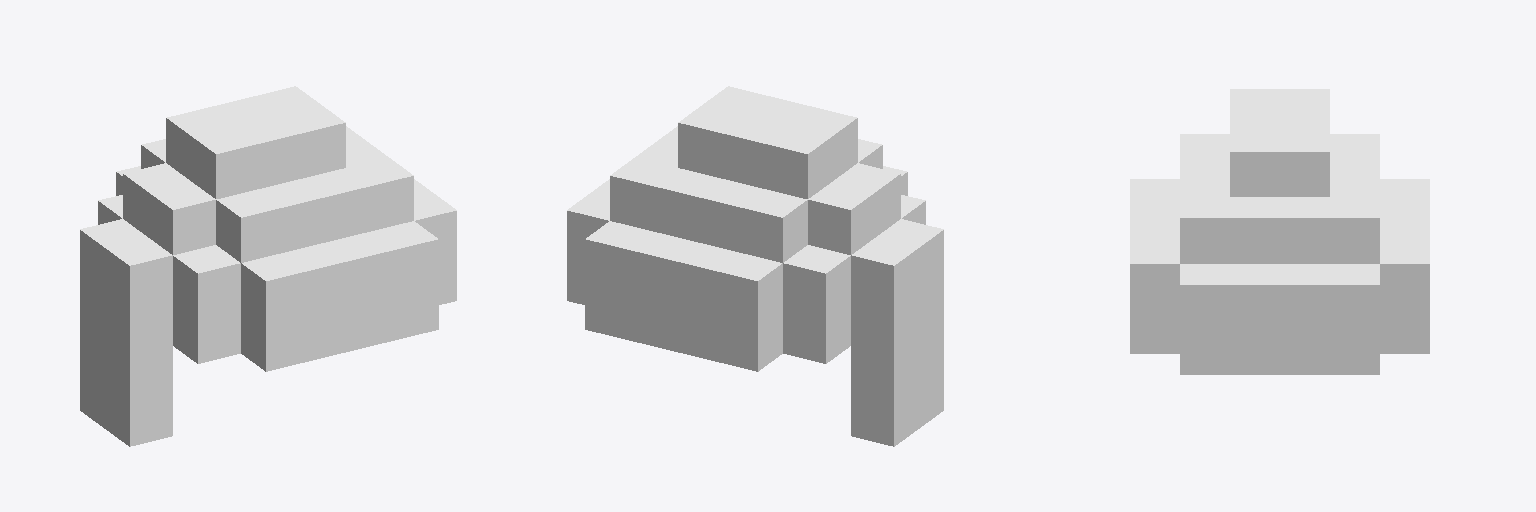
The model's file is char-221-helm_lgt_2c_ja_color.obj.
The picture shows the model from 3 angles: view 1: azimuth 30°, elevation 25°; view 2: azimuth 150°, elevation 25°; view 3: azimuth 270°, elevation 25°; orthographic projection.
Visible parts, largest first — view 1: helm_lgt_2c_ja_color; view 2: helm_lgt_2c_ja_color; view 3: helm_lgt_2c_ja_color.
Boxes of the visible parts, <box> form: helm_lgt_2c_ja_color: <box>80,86,456,446</box>; helm_lgt_2c_ja_color: <box>567,86,943,446</box>; helm_lgt_2c_ja_color: <box>1130,89,1429,374</box>.
Bounding box in the file's own units: 0.7 × 0.6 × 0.6.